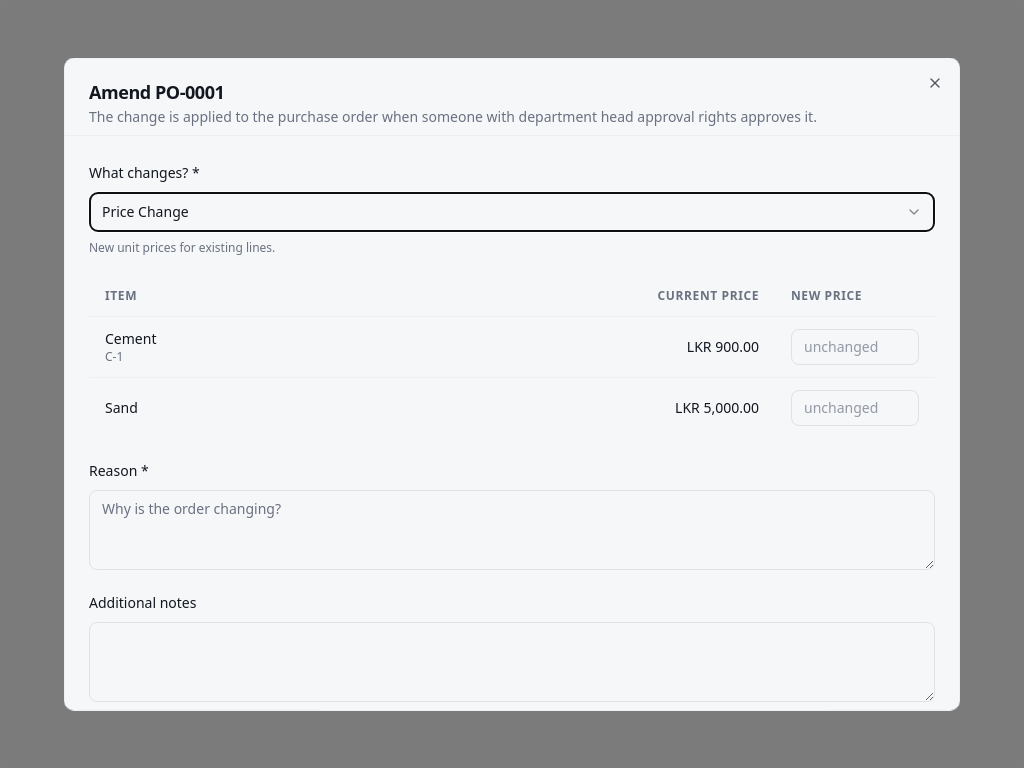
Test: CreatePoAmendmentDialog › sends the structured change with the reason
The width and height of the screenshot is (1024, 768).
Later steps or results of the test are not shown.
In the field named "new price for cement": (855, 346) [791,328,919,364], type "950"
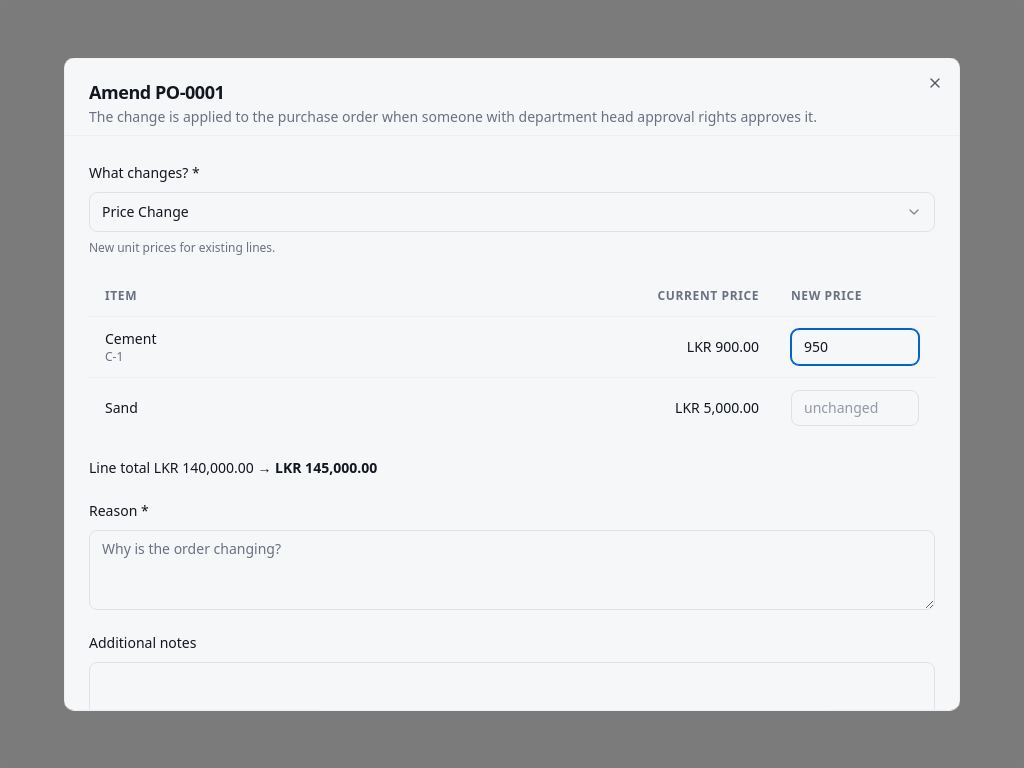
Result: the text "LKR 145,000.00" is shown at [275,457,377,476]
